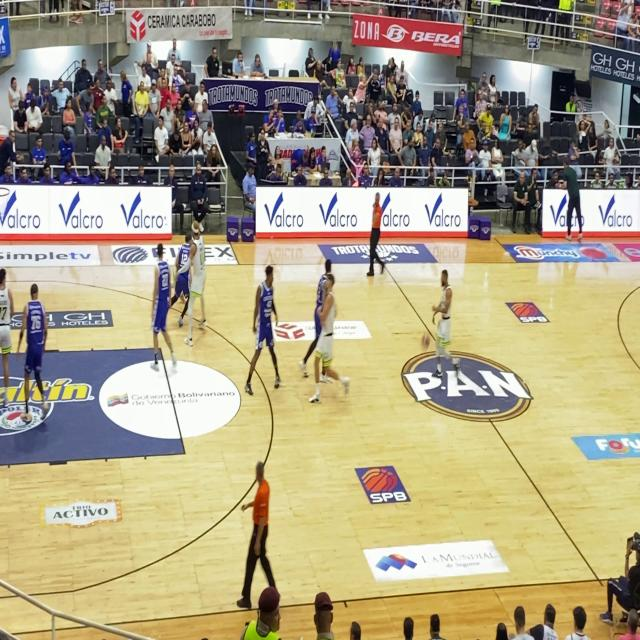Ball: (420, 329, 434, 356)
referee: (248, 460, 276, 586), (369, 188, 383, 287)
team1: (436, 266, 454, 374), (2, 266, 13, 392), (326, 276, 336, 404), (195, 218, 205, 320)
team2: (25, 280, 47, 406), (154, 243, 172, 375), (258, 266, 276, 380)
